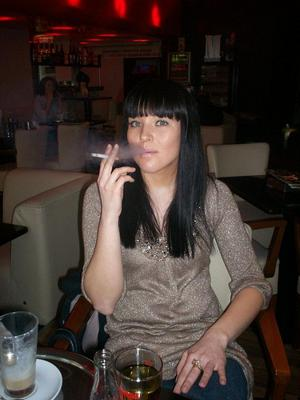person: (79, 74, 271, 400)
